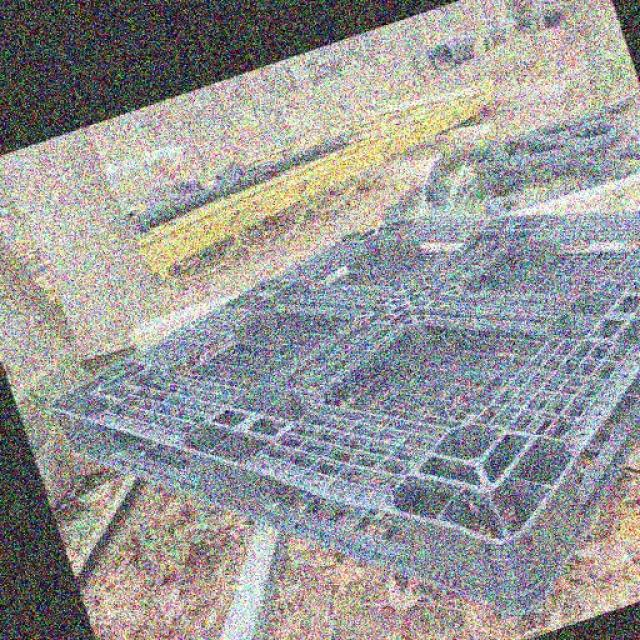non-igps: (40, 193, 640, 626)
